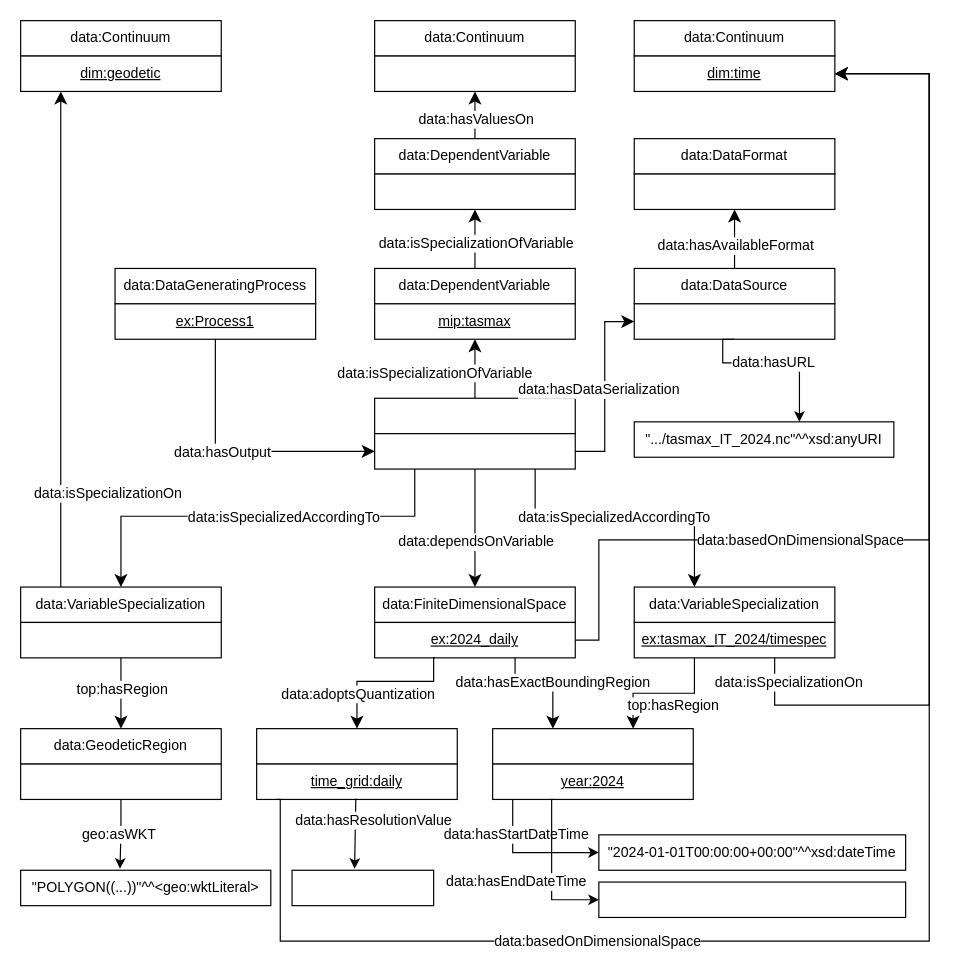
This 962x973 diagram has some shape labels left out. The centre of each missing label's shape, as x and y in pixels:
"2025-01-01T00:00:00+00:00"^^xsd:dateTime: the point at 752,899
"P1D"^^xsd:duration: the point at 362,887
cf:air_temperature: the point at 474,191
country:Italy: the point at 120,781
data:Dataset: the point at 474,415
data:SimpleRegularBinning: the point at 356,745
data:TemporalRegion: the point at 592,745
dim:temperature: the point at 474,73
ex:DataSrc1: the point at 734,321
ex:tasmax_IT_2024: the point at 474,450
ex:tasmax_IT_2024/geospec: the point at 120,639
format:NetCDF: the point at 734,191
